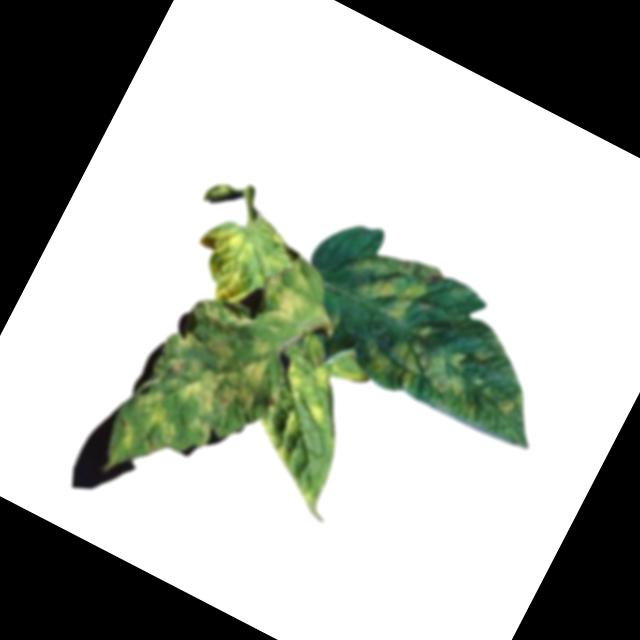Leaf_Mold: (95, 283, 299, 515), (351, 304, 544, 452), (230, 351, 372, 512), (177, 195, 303, 323), (336, 230, 447, 334), (254, 252, 336, 344)
